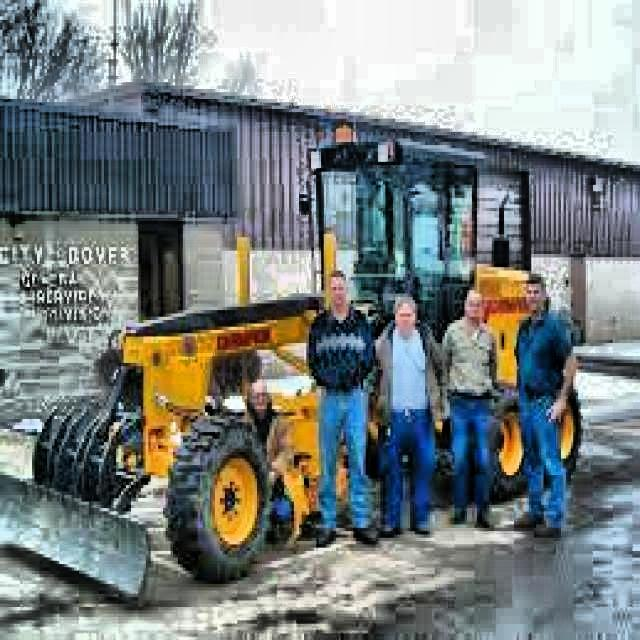bull_dozer/loader/grader: (0, 109, 593, 616)
person: (298, 262, 384, 550), (373, 291, 450, 538), (512, 268, 579, 544), (438, 278, 506, 538), (239, 363, 307, 556)
